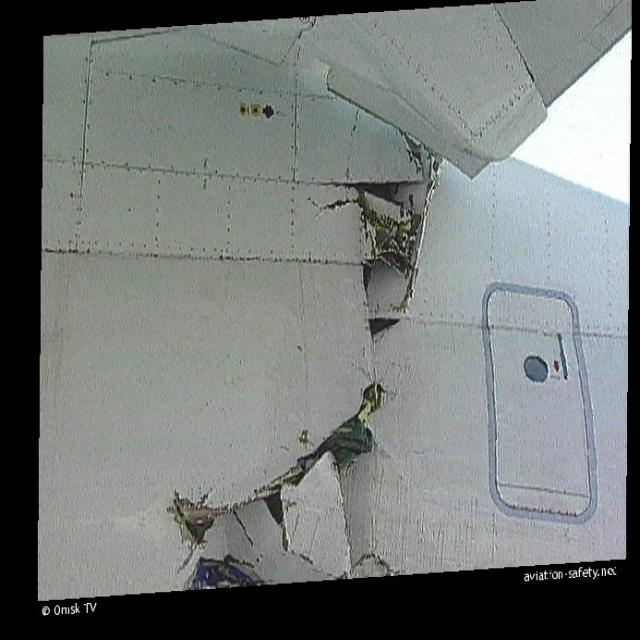crack: (172, 125, 447, 573)
